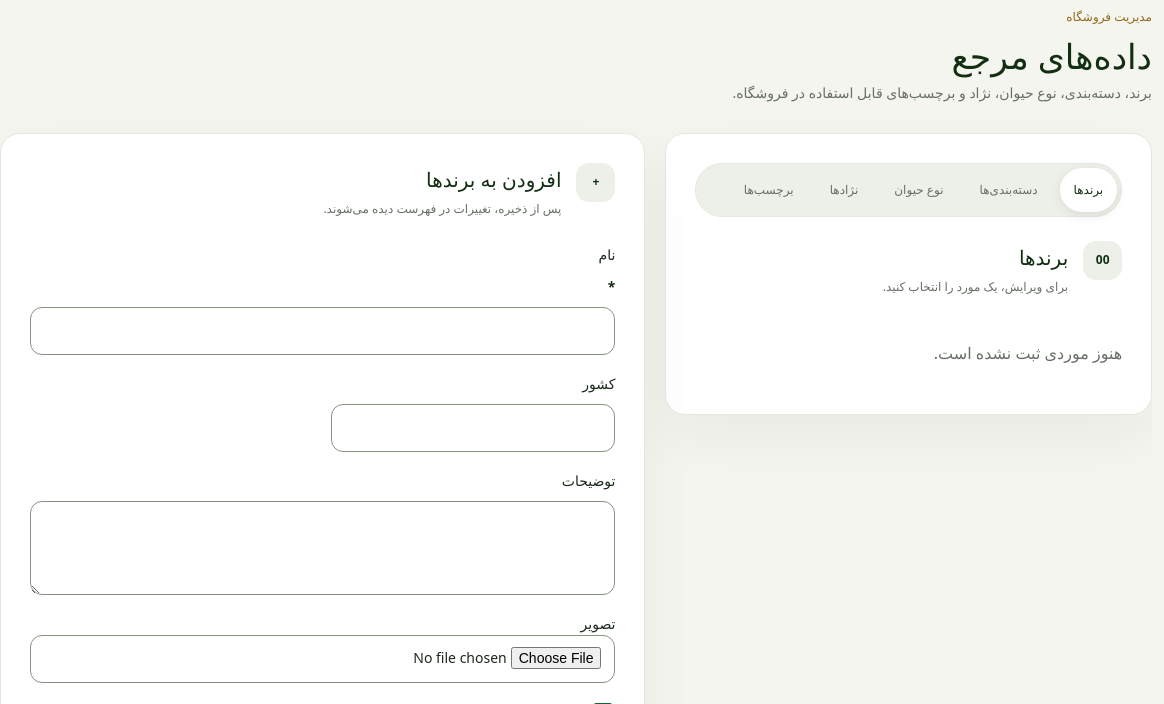
Test: retains the existing نوع حیوان creation contract
Click the button "نوع حیوان".
click(919, 190)  # box [880,168,958,212]
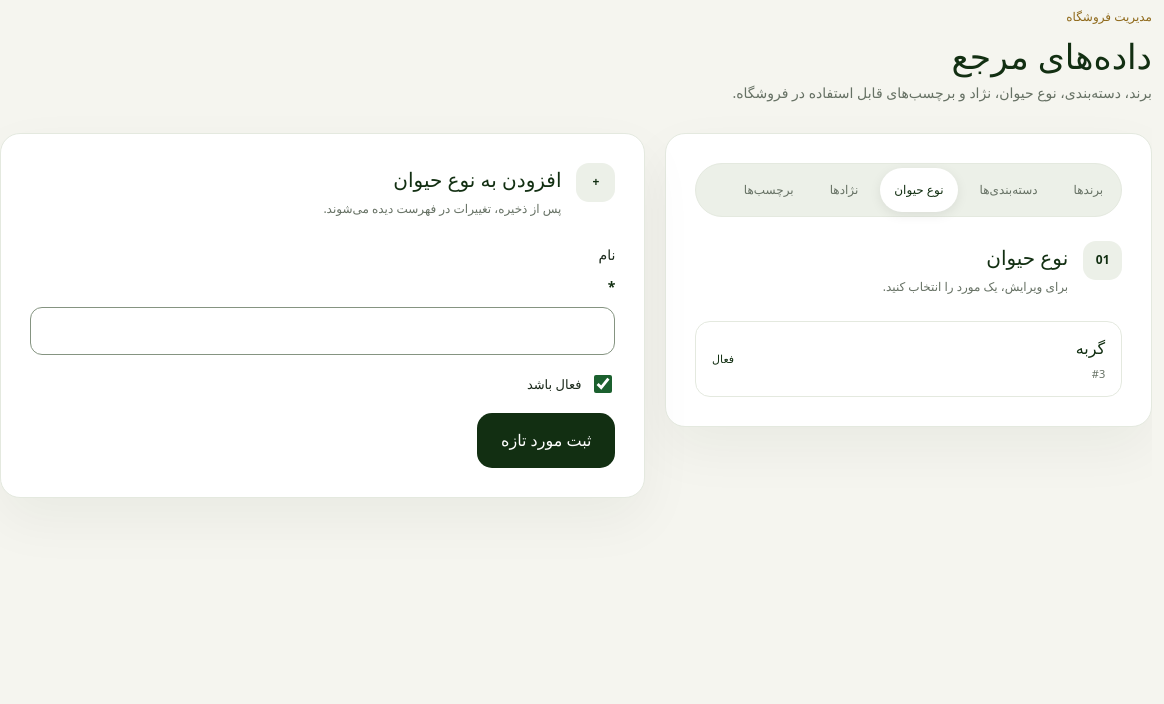
Type "مرجع تازه" into the field labelled "نام *".
click(323, 331); type("مرجع تازه")  # box [30,307,616,355]
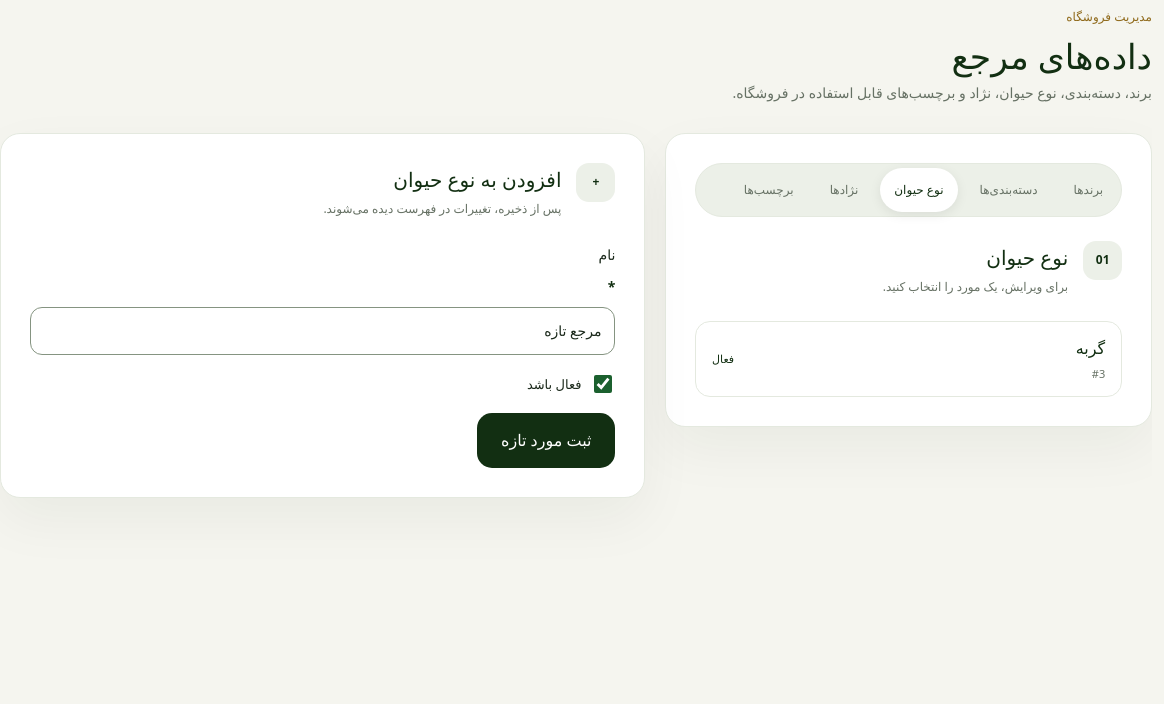
Click the button "ثبت مورد تازه".
click(546, 441)  # box [477,413,615,468]
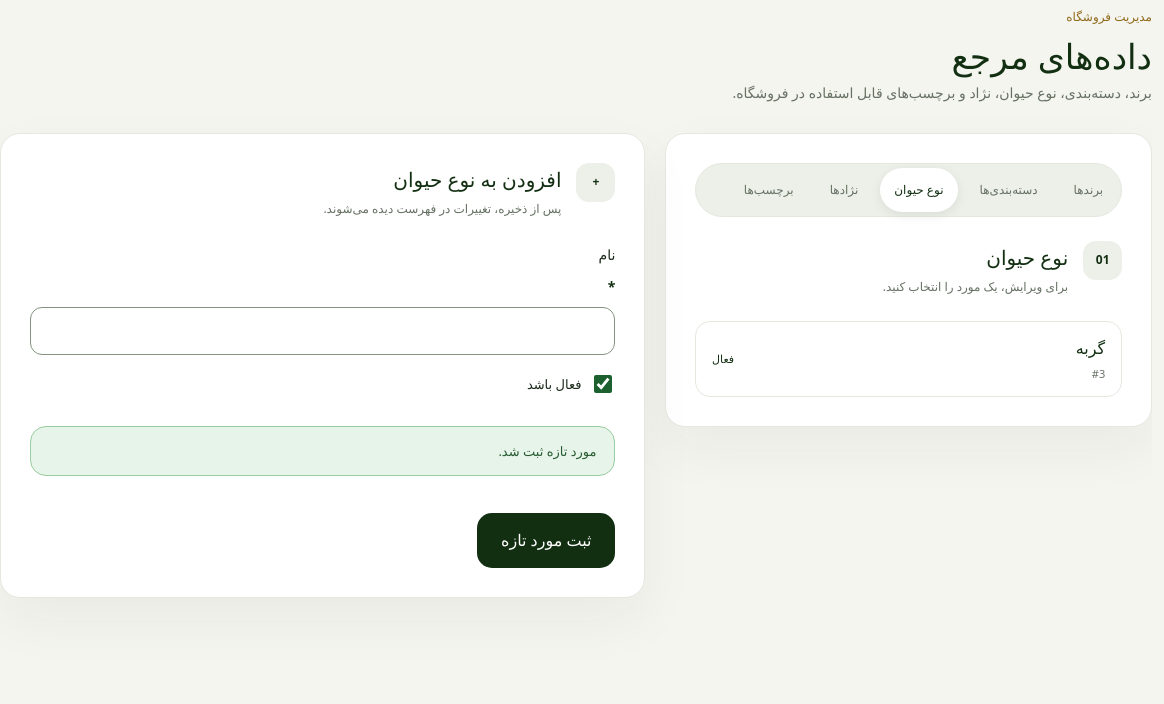
Check: the text "مورد تازه ثبت شد." is shown, box [30,426,616,476]
